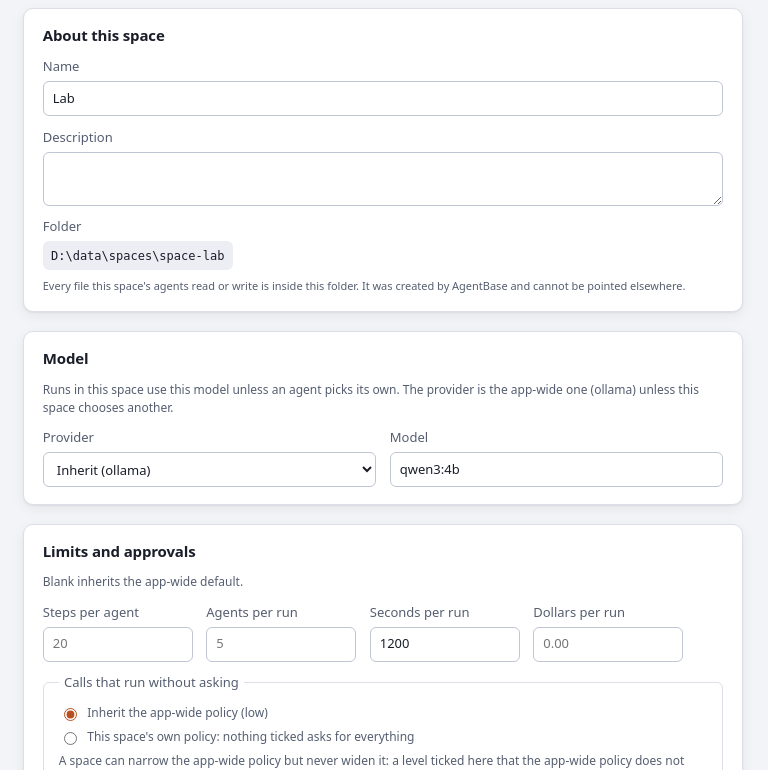
Test: what is sent › puts a refusal on the field the server named
Replace the text in the field with test id "space-name" with "Main" at (383,99), box top-left (43, 81), bottom-right (723, 116)
(page scrolled)
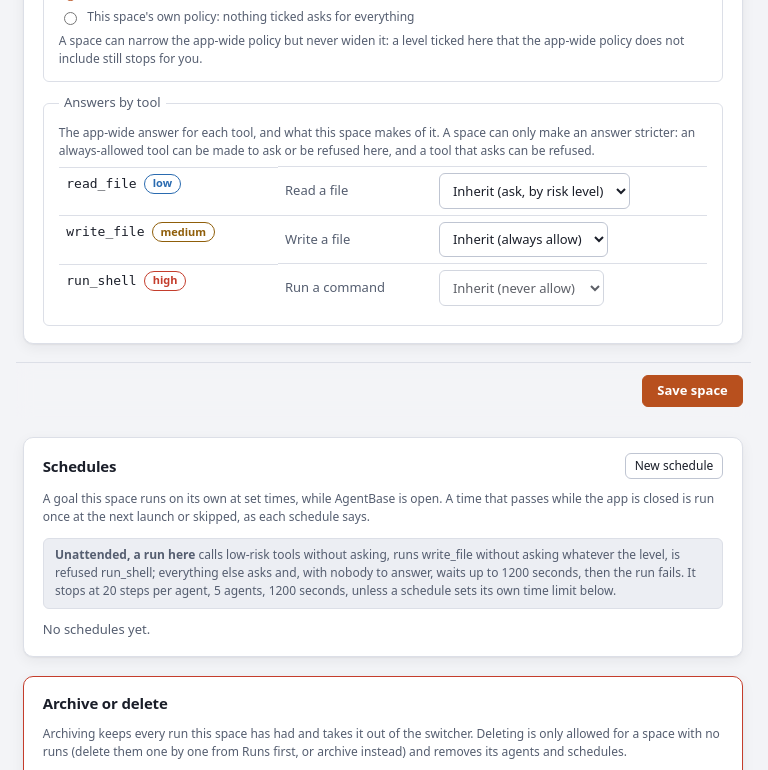
Click the button "Save space".
click(693, 391)  # box top-left (642, 374), bottom-right (743, 407)
(page scrolled)
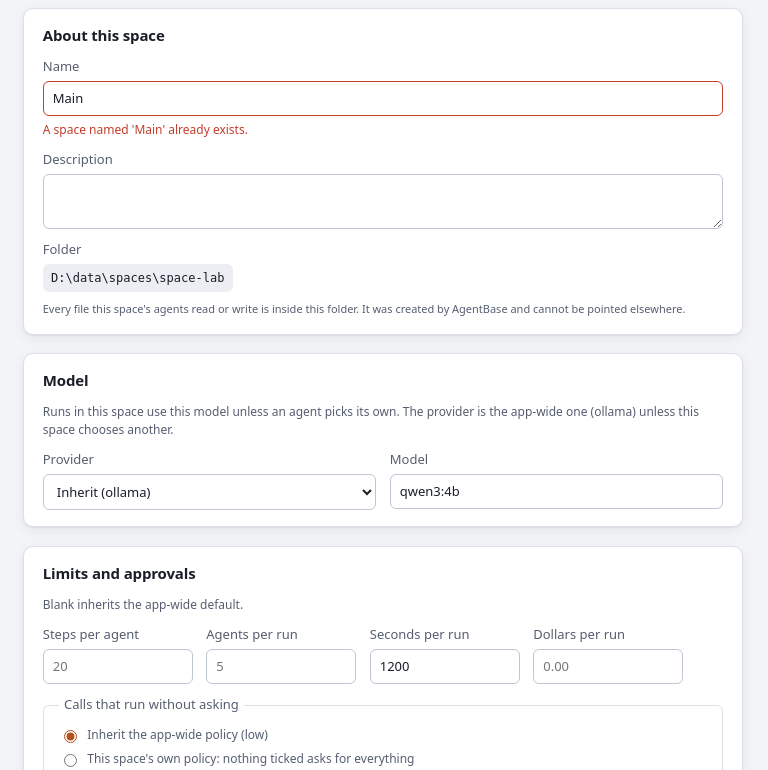
Result: the message with test id "error-name" shows "already exists" at top-left (43, 121), bottom-right (248, 138)
